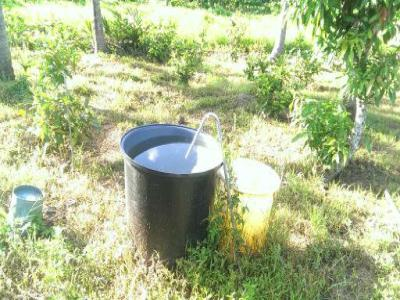bucket: (119, 122, 225, 272), (214, 156, 281, 258), (5, 183, 47, 231)
